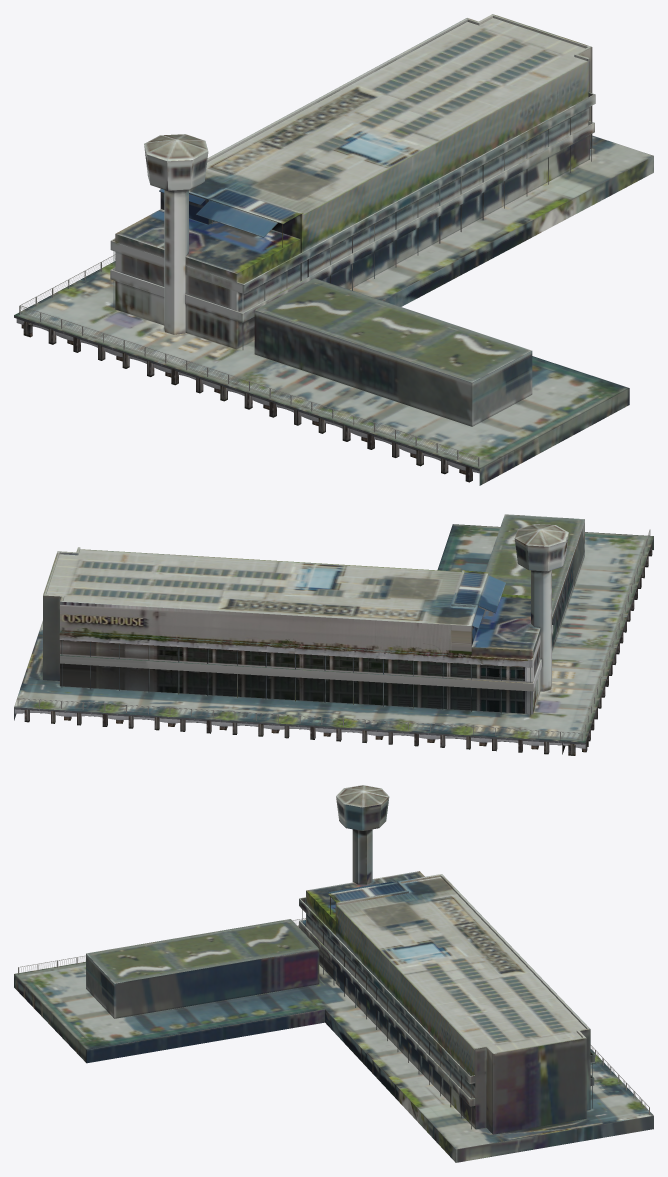
The picture shows the model from 3 angles, top to bottom: view 1: azimuth 30°, elevation 25°; view 2: azimuth 150°, elevation 25°; view 3: azimuth 270°, elevation 25°; orthographic projection. The views are drawn at different scales.
Visible parts, largest first — view 1: 8_0.glb; view 2: 8_0.glb; view 3: 8_0.glb.
Boxes of the visible parts, x1,y1,x2,y2 form: 8_0.glb: (14, 14, 653, 485); 8_0.glb: (14, 514, 653, 755); 8_0.glb: (14, 785, 653, 1162).
Bounding box in the file's own units: 76.3 × 23.34 × 82.53.
Materials: 4 (4 with a texture image).
